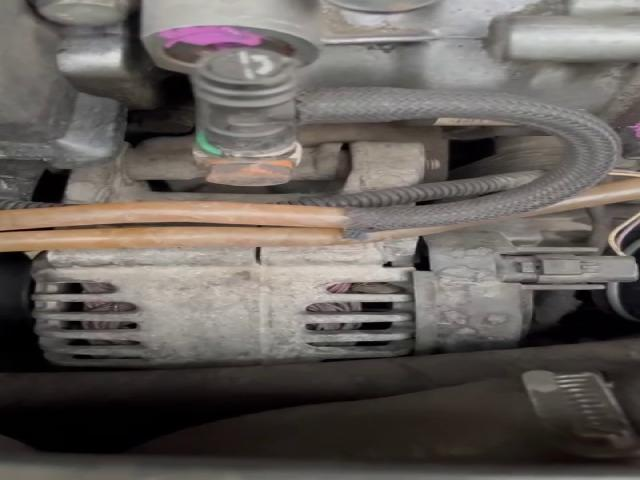alternator: (33, 239, 415, 367)
high_pressure_pump: (141, 0, 637, 121)
